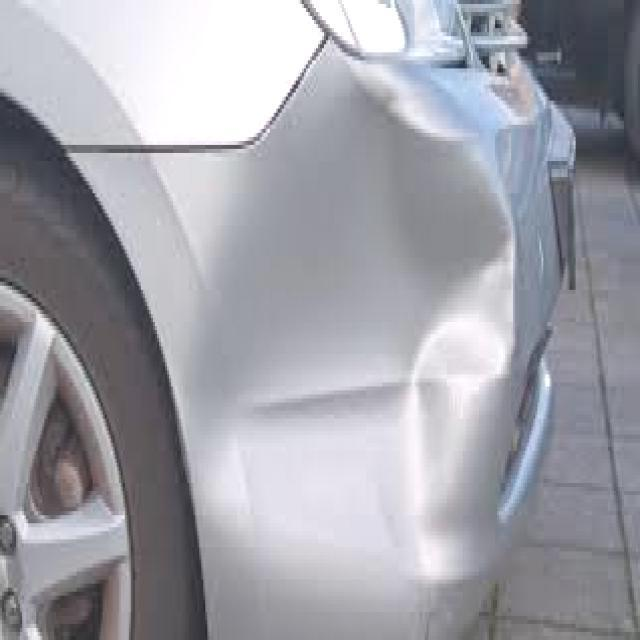minor: (153, 54, 530, 636)
